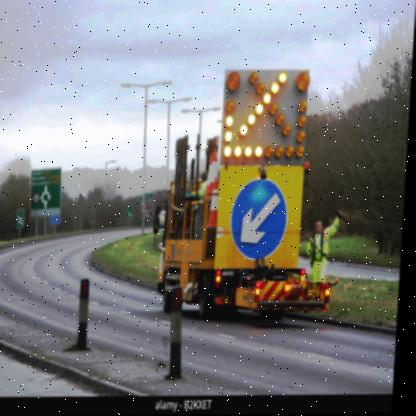Keep left: (226, 173, 296, 265)
